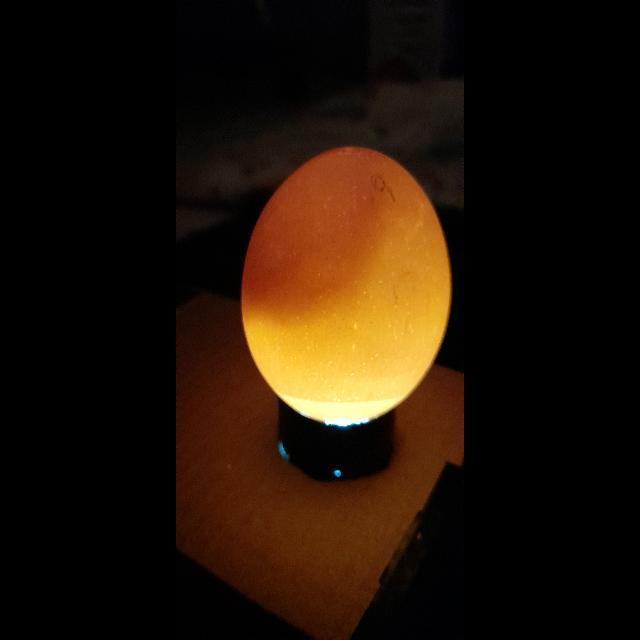Infertile: (234, 142, 456, 430)
